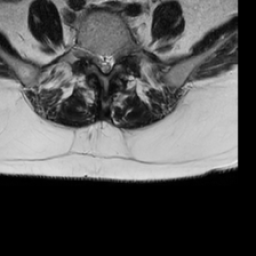CCS_normal: (101, 46, 108, 80)
LFS_normal: (115, 38, 124, 67)
LLS_normal: (108, 45, 115, 76)
RFS_normal: (87, 40, 95, 70)
RLS_normal: (95, 44, 101, 77)
